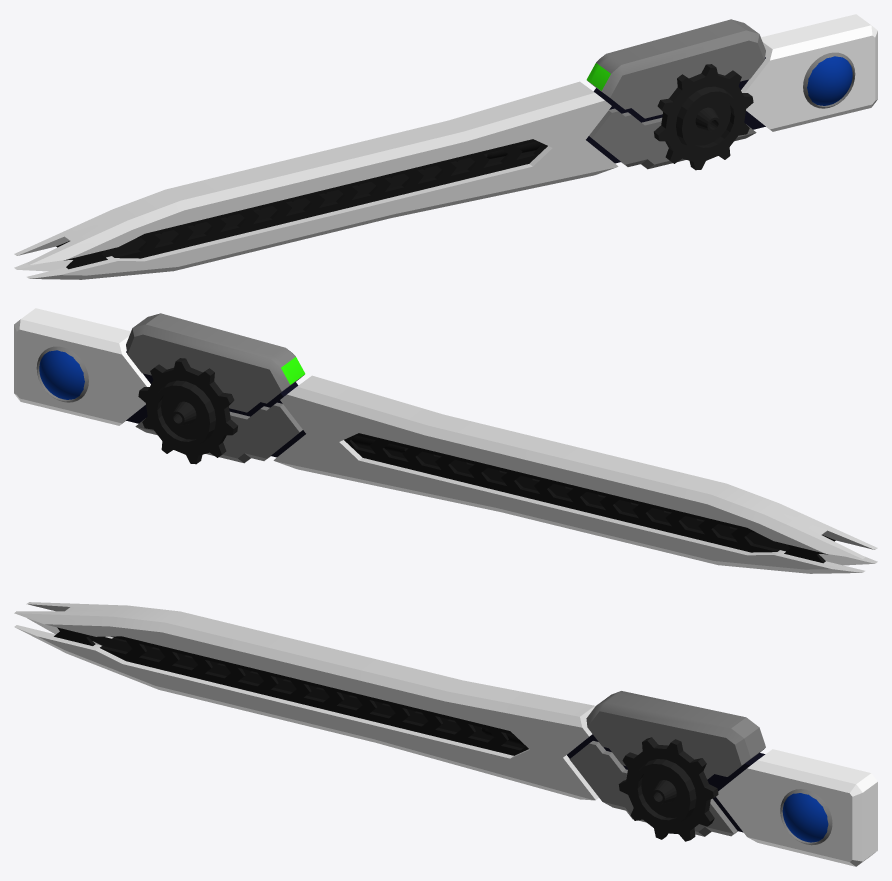
Rendered from Railgun01.fbx.
The picture shows the model from 3 angles, top to bottom: view 1: azimuth 30°, elevation 25°; view 2: azimuth 150°, elevation 25°; view 3: azimuth 330°, elevation 25°; orthographic projection.
Parts seen in each view (by area): view 1: Line013, Line014, Line001, Line015, Line011, jok, Line005, Line010, Sphere001, Raygun, Sphere002; view 2: Line013, Line014, Line001, Line015, Line011, jok001, Line005, Line010, Sphere001, Raygun, Sphere002; view 3: Line013, Line014, Line001, Line015, Line011, jok, Line005, Line010, Sphere001, Raygun, Sphere002.
Part boxes in pixels (bbox=[...]): Line013: bbox=[14, 81, 611, 264]; Line014: bbox=[14, 140, 618, 279]; Line001: bbox=[741, 14, 877, 131]; Line015: bbox=[586, 19, 765, 118]; Line011: bbox=[64, 145, 547, 269]; jok: bbox=[654, 64, 753, 170]; Line005: bbox=[589, 108, 756, 169]; Line010: bbox=[56, 139, 546, 260]; Sphere001: bbox=[807, 56, 852, 105]; Raygun: bbox=[586, 57, 765, 163]; Sphere002: bbox=[803, 52, 855, 108]; Line013: bbox=[280, 375, 877, 558]; Line014: bbox=[273, 434, 877, 573]; Line001: bbox=[14, 308, 150, 425]; Line015: bbox=[126, 313, 305, 412]; Line011: bbox=[344, 439, 827, 563]; jok001: bbox=[138, 358, 237, 464]; Line005: bbox=[135, 402, 302, 463]; Line010: bbox=[345, 433, 835, 554]; Sphere001: bbox=[39, 350, 84, 399]; Raygun: bbox=[126, 351, 305, 457]; Sphere002: bbox=[36, 346, 88, 402]; Line013: bbox=[14, 602, 595, 757]; Line014: bbox=[14, 618, 598, 800]; Line001: bbox=[716, 749, 877, 866]; Line015: bbox=[586, 691, 765, 779]; Line011: bbox=[54, 631, 528, 755]; jok: bbox=[618, 737, 718, 841]; Line005: bbox=[569, 741, 737, 836]; Line010: bbox=[57, 627, 514, 740]; Sphere001: bbox=[782, 793, 828, 842]; Raygun: bbox=[567, 734, 765, 832]; Sphere002: bbox=[780, 789, 832, 845].
Size of the model in its own units: 1290 by 169 by 147.
